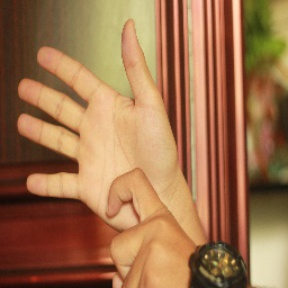R: (10, 17, 190, 285)
